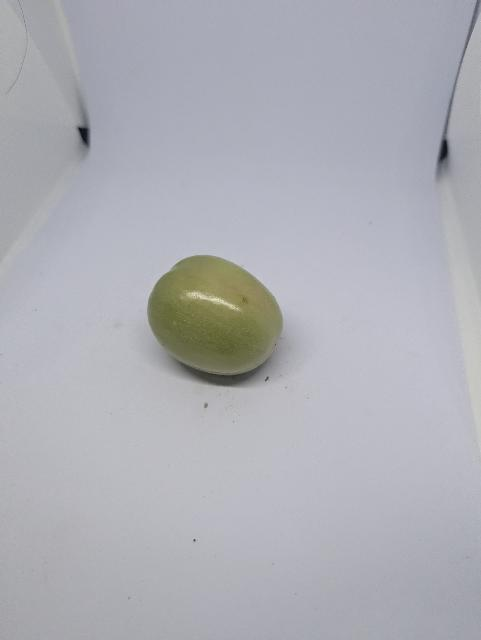green: (141, 249, 310, 409)
